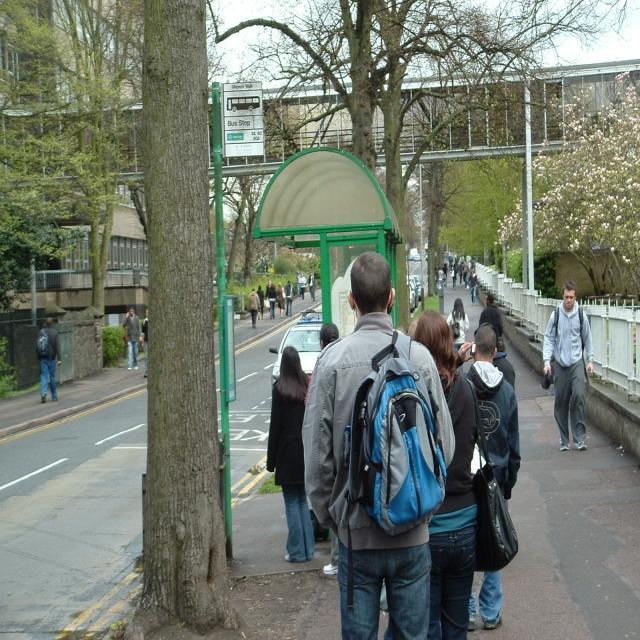bareface: (564, 288, 574, 310)
